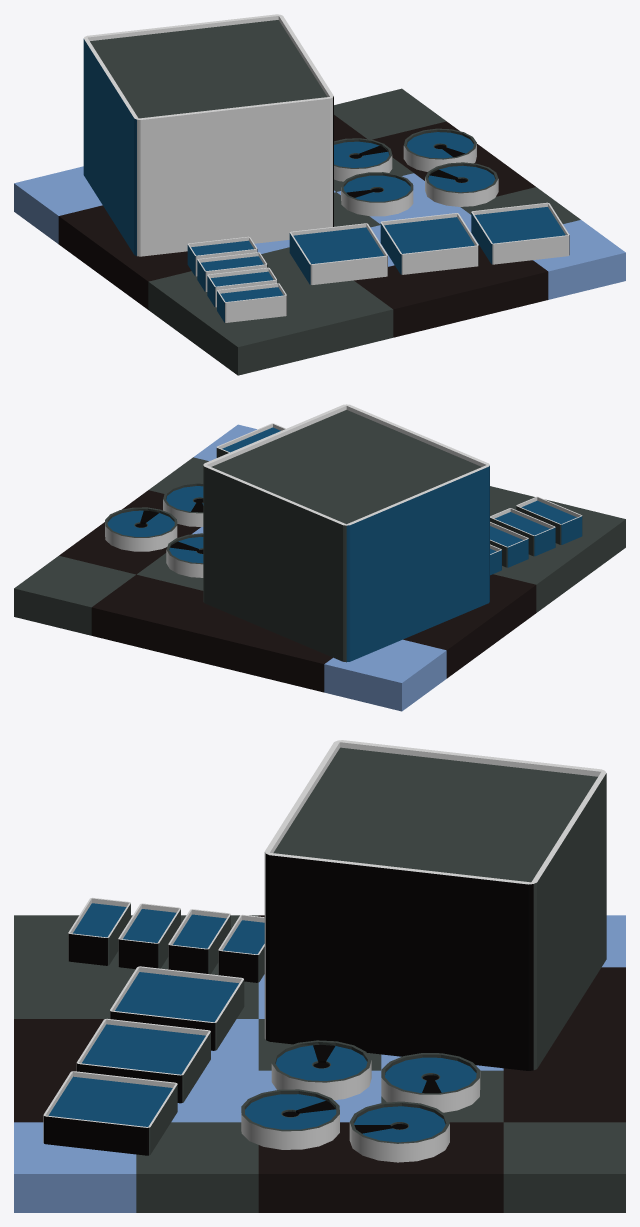
The model's file is 汙水處理廠.fbx.
3 views of the same model, one above another, from view 1: azimuth 30°, elevation 25°; view 2: azimuth 150°, elevation 25°; view 3: azimuth 270°, elevation 25° (orthographic). The views are drawn at different scales.
Visible parts, largest first — view 1: Box191, plane_dirty_water, Box578, Box579, Box192, Line485, Line484, Line486, Box577, Line008, Box193, Box196 (+1 smaller); view 2: Box191, plane_dirty_water, Line486, Box577, Box576, Line485, Line008, Box196, Box579; view 3: Box191, plane_dirty_water, Box579, Box192, Box578, Line486, Line485, Line484, Line008, Box577, Box576, Box196 (+1 smaller).
Boxes of the visible parts, x1,y1,x2,y2 form: Box191: [83, 14, 333, 256]; plane_dirty_water: [14, 88, 625, 375]; Box578: [380, 213, 478, 274]; Box579: [471, 202, 569, 264]; Box192: [289, 223, 387, 284]; Line485: [425, 162, 498, 206]; Line484: [341, 172, 413, 216]; Line486: [403, 128, 476, 171]; Box577: [217, 283, 286, 322]; Line008: [334, 138, 392, 181]; Box193: [187, 236, 257, 276]; Box196: [197, 252, 267, 291]; Box191: [203, 404, 489, 662]; plane_dirty_water: [14, 424, 625, 711]; Line486: [105, 507, 177, 551]; Box577: [516, 496, 582, 544]; Box576: [490, 508, 555, 556]; Line485: [163, 482, 203, 526]; Line008: [166, 533, 203, 577]; Box196: [490, 522, 528, 567]; Box579: [216, 423, 285, 457]; Box191: [264, 740, 606, 1070]; plane_dirty_water: [14, 915, 625, 1212]; Box579: [43, 1071, 177, 1155]; Box192: [110, 966, 244, 1050]; Box578: [76, 1018, 210, 1103]; Line486: [349, 1101, 449, 1162]; Line485: [241, 1089, 339, 1149]; Line484: [271, 1040, 371, 1100]; Line008: [381, 1053, 480, 1112]; Box577: [68, 897, 130, 965]; Box576: [118, 903, 180, 969]; Box196: [168, 909, 230, 974].
Bounding box in the file's own units: 100 × 40.64 × 100.
